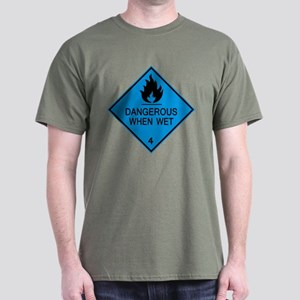DangerousWhenWet: (109, 68, 196, 152)
